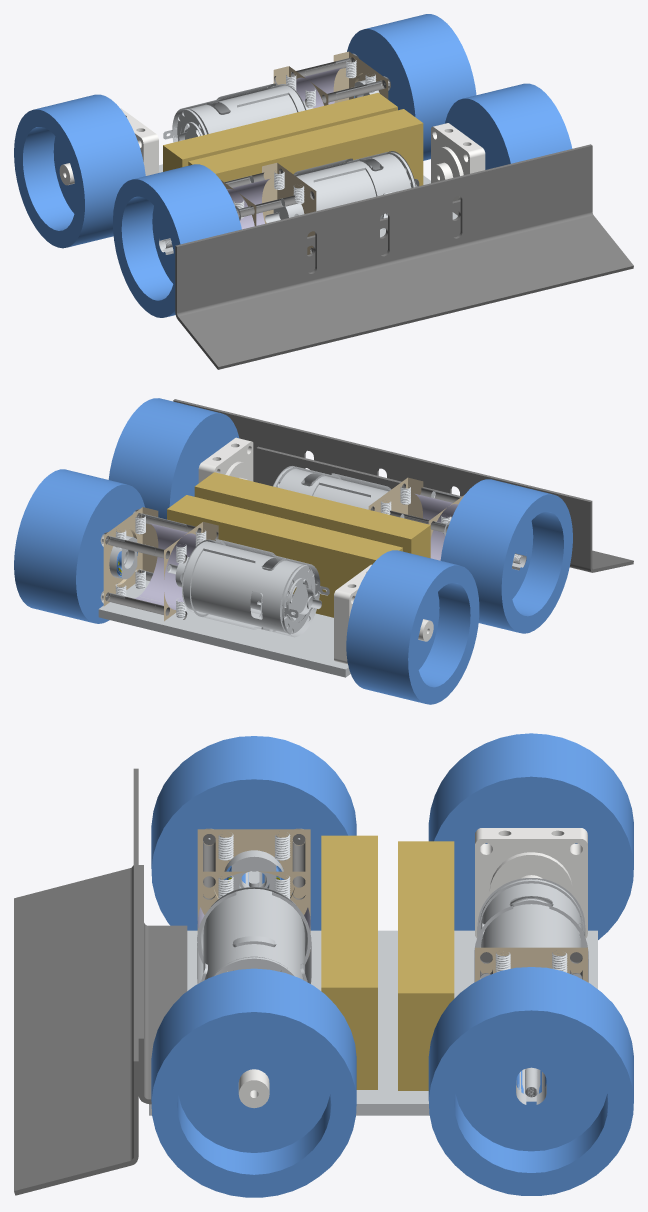
File: sumo.glb
3 views of the same model, one above another, from view 1: azimuth 30°, elevation 25°; view 2: azimuth 150°, elevation 25°; view 3: azimuth 270°, elevation 25° (orthographic). The views are drawn at different scales.
Visible parts, largest first — view 1: INGENIUM_SUMO; view 2: INGENIUM_SUMO; view 3: INGENIUM_SUMO.
Boxes of the visible parts, x1,y1,x2,y2 form: INGENIUM_SUMO: (14,14,633,369); INGENIUM_SUMO: (14,398,633,704); INGENIUM_SUMO: (14,733,633,1197).
Size of the model in its own units: 27 by 8.01 by 24.16.
